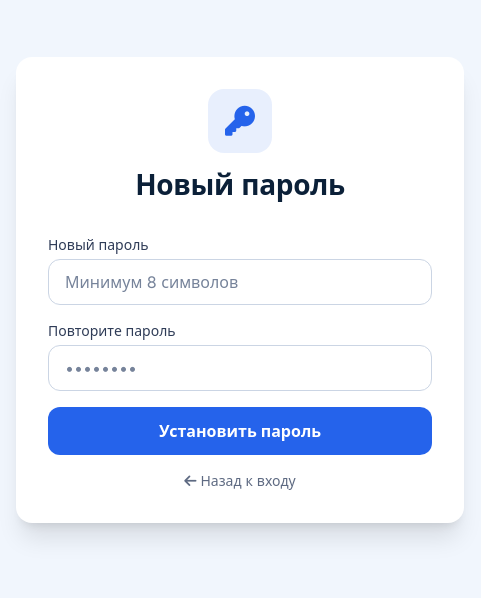
Scenario: ResetPasswordPage › 400 → backend message plus a link to request a new one; session untouched
Type "NewPassw0rd!" into the password field with placeholder "Минимум 8 символов" at (240, 282), box top-left (48, 259), bottom-right (432, 305)
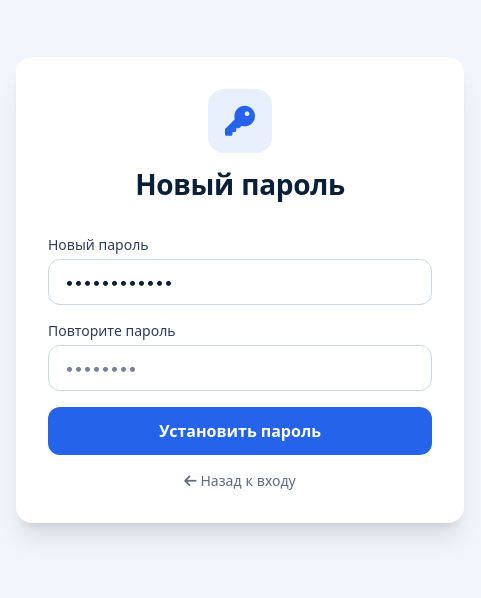
Type "NewPassw0rd!" into the password field with placeholder "••••••••" at (240, 368), box top-left (48, 345), bottom-right (432, 391)
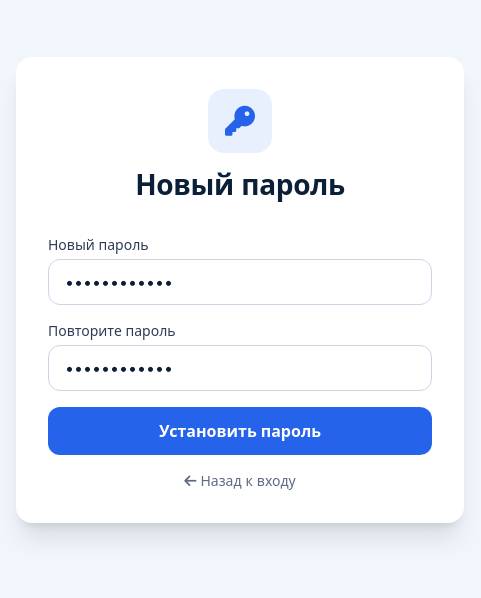
Click the button "Установить пароль" at (240, 431), box top-left (48, 407), bottom-right (432, 455)
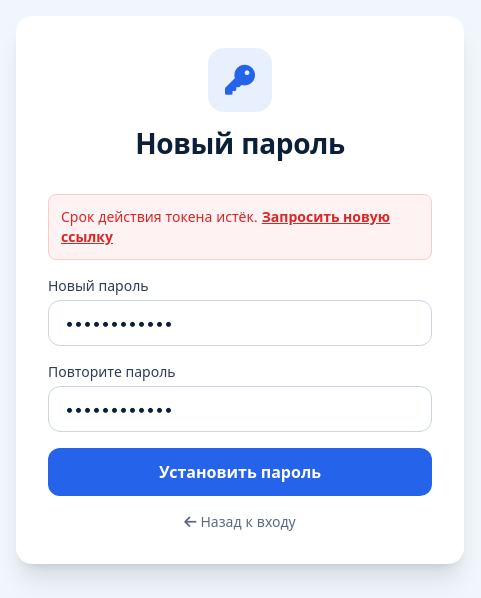
Expected: the text "Срок действия токена истёк. Запросить новую ссылку" is shown, top-left (48, 194), bottom-right (432, 260)
Expected: the link "Запросить новую ссылку" is shown, top-left (61, 208), bottom-right (390, 245)
